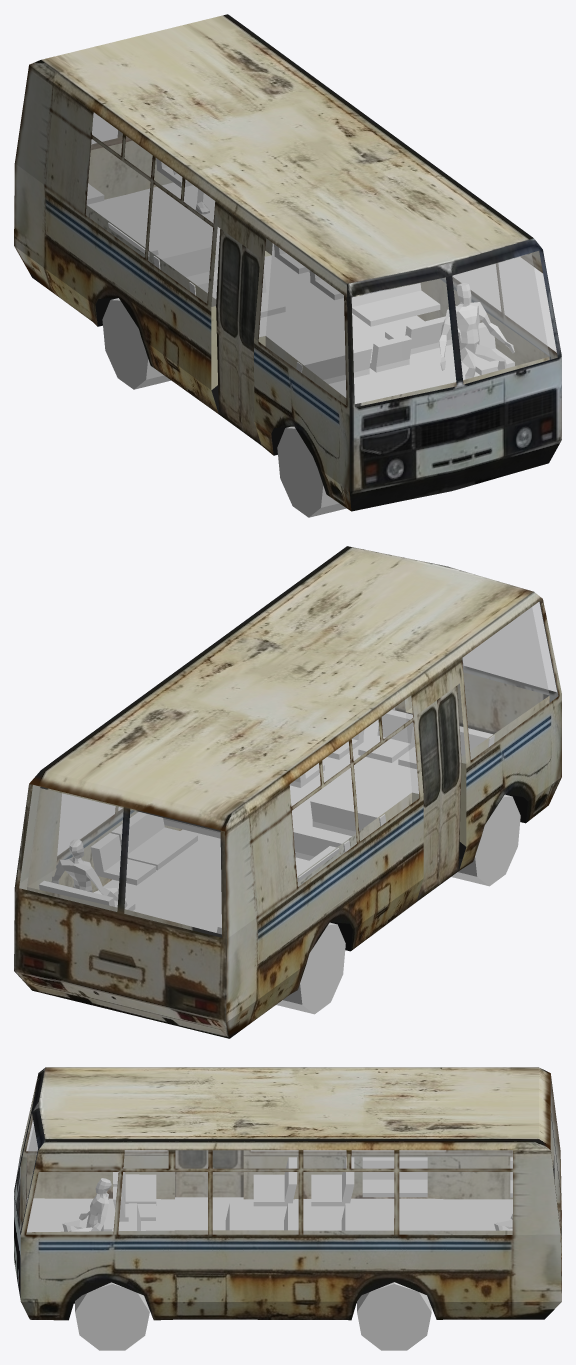
File: pazik.fbx
The picture shows the model from 3 angles, top to bottom: view 1: azimuth 30°, elevation 25°; view 2: azimuth 150°, elevation 25°; view 3: azimuth 270°, elevation 25°; orthographic projection. The views are drawn at different scales.
Visible parts, largest first — view 1: Cube.001, Plane, Cube.003, Cylinder.002, Cylinder.001, Cube.002, BASE_Low Poly Man.003, Cube.011, Cube.013, Cube.008, Cube.012, Cube.018 (+3 smaller); view 2: Cube.001, Plane, Cube.002, Cube.003, Cylinder.001, Cylinder.002, Cube.015, Cube.016, Cube.004, Cube.018, BASE_Low Poly Man.002, Cube.008 (+2 smaller); view 3: Cube.001, Plane, Cylinder.003, Cylinder.004, Cube.017, Cube.004, Cube.002, Cube.008, Cube.003, BASE_Low Poly Man.003, Cube.013, Cube.012 (+4 smaller).
Part boxes in pixels (bbox=[...]): Cube.001: bbox=[14, 14, 561, 511]; Plane: bbox=[87, 182, 479, 403]; Cube.003: bbox=[216, 229, 242, 429]; Cylinder.002: bbox=[277, 426, 346, 517]; Cylinder.001: bbox=[102, 298, 170, 389]; Cube.002: bbox=[238, 245, 261, 444]; BASE_Low Poly Man.003: bbox=[439, 283, 514, 379]; Cube.011: bbox=[351, 283, 440, 326]; Cube.013: bbox=[296, 345, 371, 383]; Cube.008: bbox=[153, 240, 219, 281]; Cube.012: bbox=[385, 316, 480, 354]; Cube.018: bbox=[368, 335, 411, 372]; Cube.001: bbox=[14, 546, 561, 1038]; Plane: bbox=[103, 710, 492, 929]; Cube.002: bbox=[437, 685, 461, 885]; Cube.003: bbox=[416, 700, 440, 901]; Cylinder.001: bbox=[276, 922, 345, 1014]; Cylinder.002: bbox=[451, 794, 520, 886]; Cube.015: bbox=[111, 812, 197, 870]; Cube.016: bbox=[90, 833, 156, 885]; Cube.004: bbox=[310, 797, 386, 835]; Cube.018: bbox=[358, 710, 415, 762]; BASE_Low Poly Man.002: bbox=[51, 839, 127, 907]; Cube.008: bbox=[293, 827, 350, 860]; Cube.001: bbox=[14, 1067, 561, 1320]; Plane: bbox=[26, 1197, 512, 1232]; Cylinder.003: bbox=[357, 1282, 431, 1350]; Cylinder.004: bbox=[75, 1282, 149, 1350]; Cube.017: bbox=[362, 1157, 427, 1197]; Cube.004: bbox=[253, 1157, 296, 1206]; Cube.002: bbox=[175, 1150, 207, 1197]; Cube.008: bbox=[311, 1157, 354, 1206]; Cube.003: bbox=[208, 1150, 243, 1197]; BASE_Low Poly Man.003: bbox=[62, 1178, 111, 1231]; Cube.013: bbox=[113, 1167, 156, 1205]; Cube.012: bbox=[128, 1203, 171, 1230].
Size of the model in its own units: 492 by 571 by 1366.
2 materials, 1 textured.
